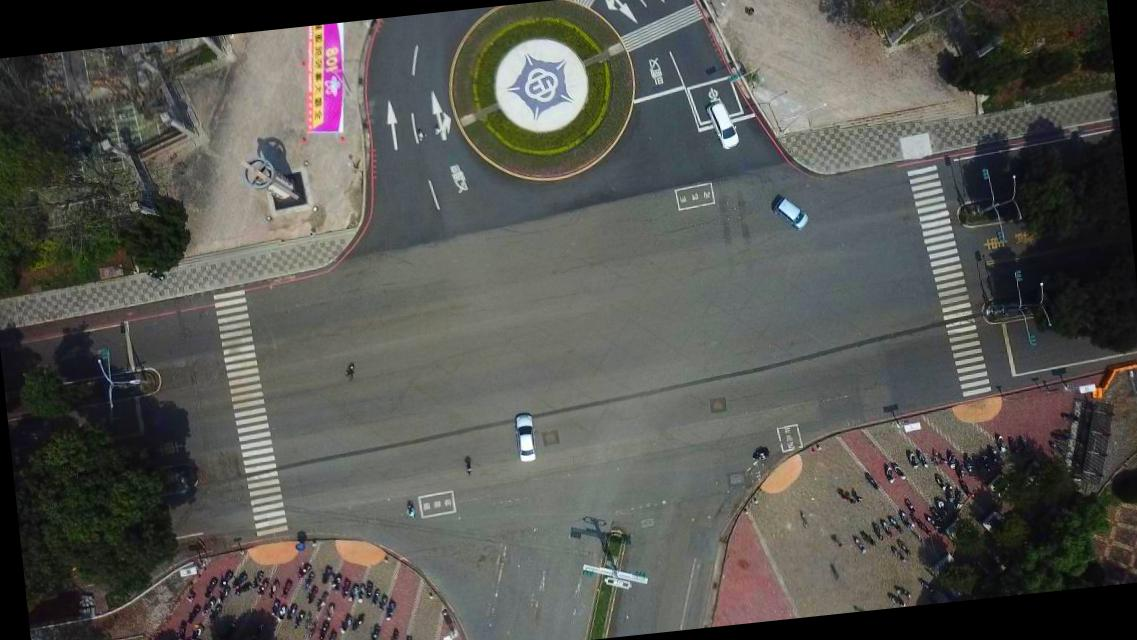vehicle: (706, 99, 741, 150), (772, 196, 810, 230), (514, 412, 538, 463)
